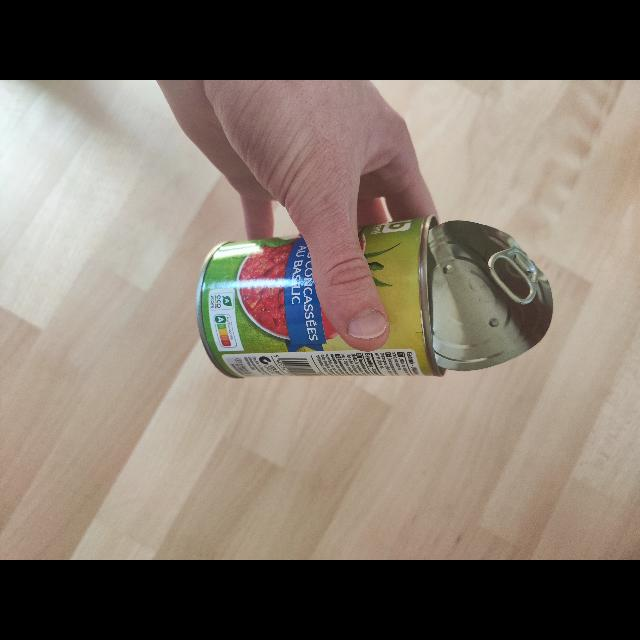Metal: (200, 218, 554, 380)
